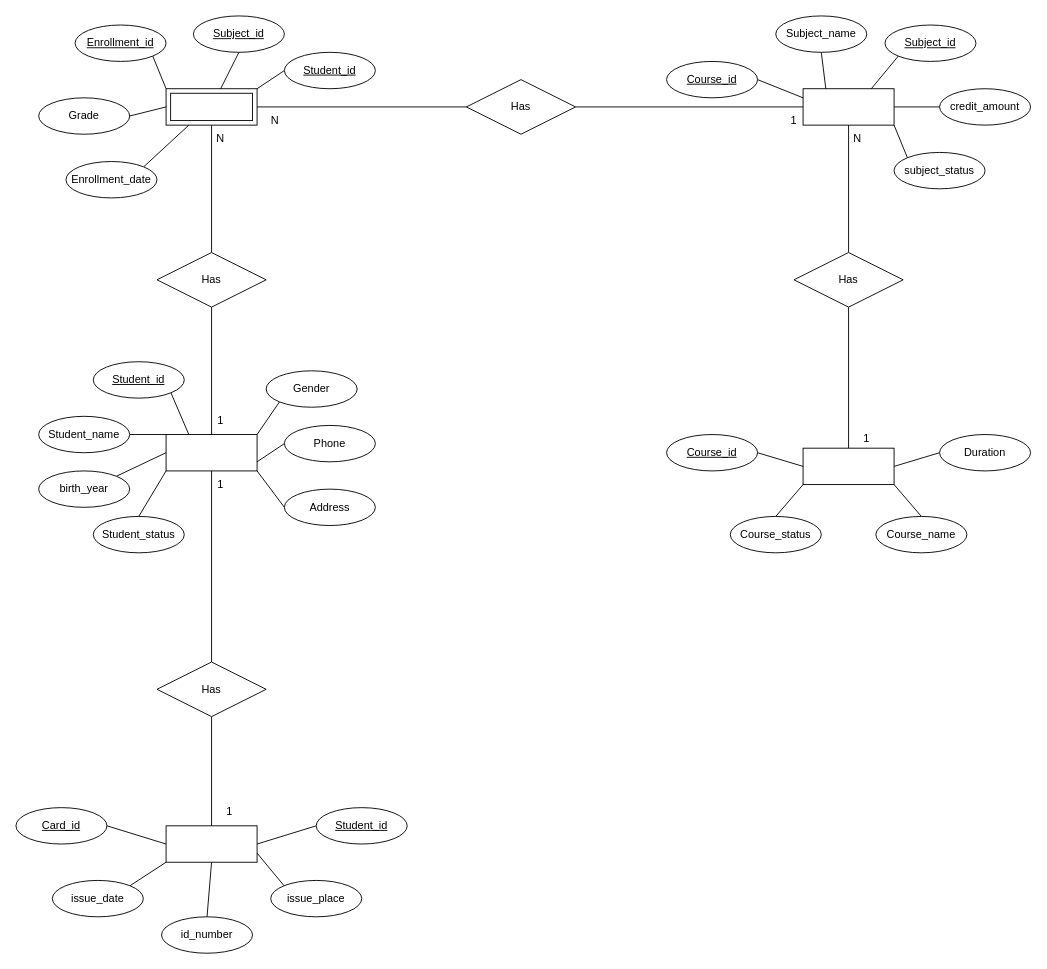
Image size: 1047x969. Some labels were removed from this diagram. Here are the shapes that lost their labels. From the top down, the centre of each, then its label:
the point at 211,106: Enrollments
the point at 848,106: Subjects
the point at 211,452: Students
the point at 848,466: Courses
the point at 211,843: Citizen_id_card
